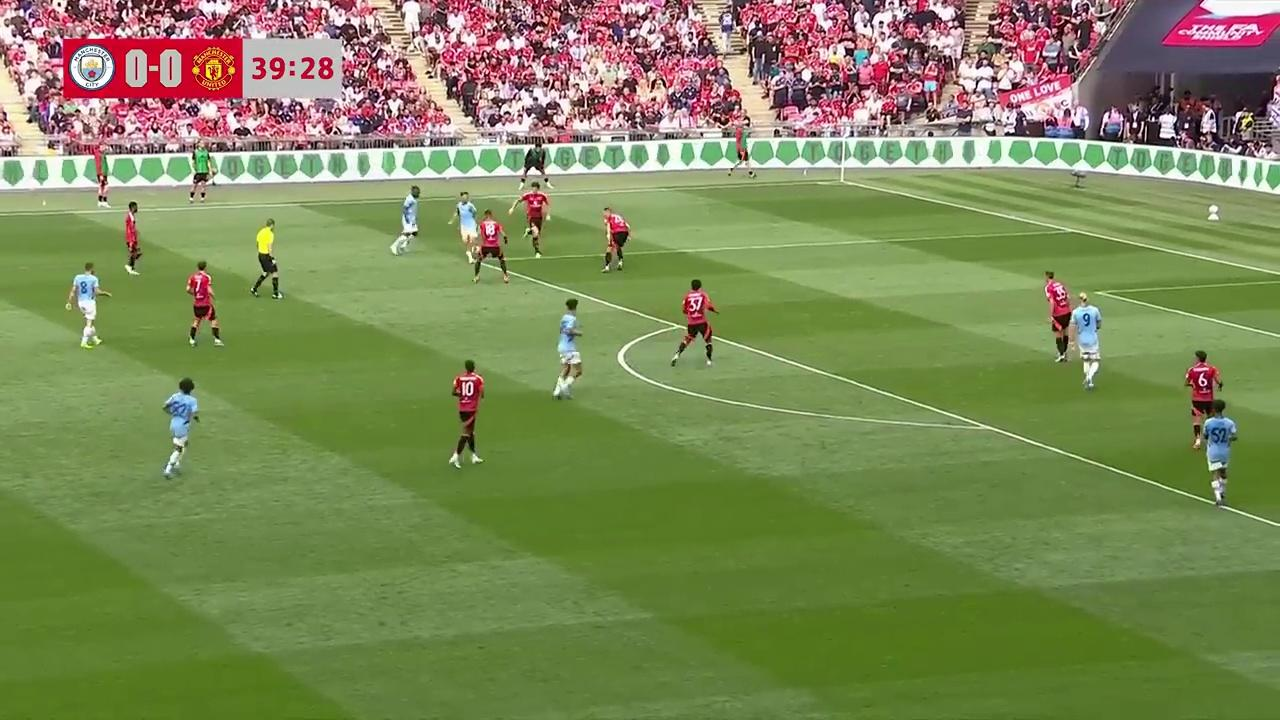player: (670, 279, 718, 374), (448, 360, 484, 469), (1184, 349, 1223, 449), (162, 378, 200, 480), (65, 262, 110, 346), (1203, 404, 1239, 509), (185, 261, 225, 348), (553, 299, 582, 399), (471, 210, 510, 284), (1073, 296, 1102, 390), (1044, 270, 1073, 360), (522, 184, 551, 257), (392, 185, 422, 254), (601, 206, 631, 272), (449, 191, 478, 254), (123, 202, 141, 275), (511, 183, 546, 219)
referee: (250, 218, 284, 299)
